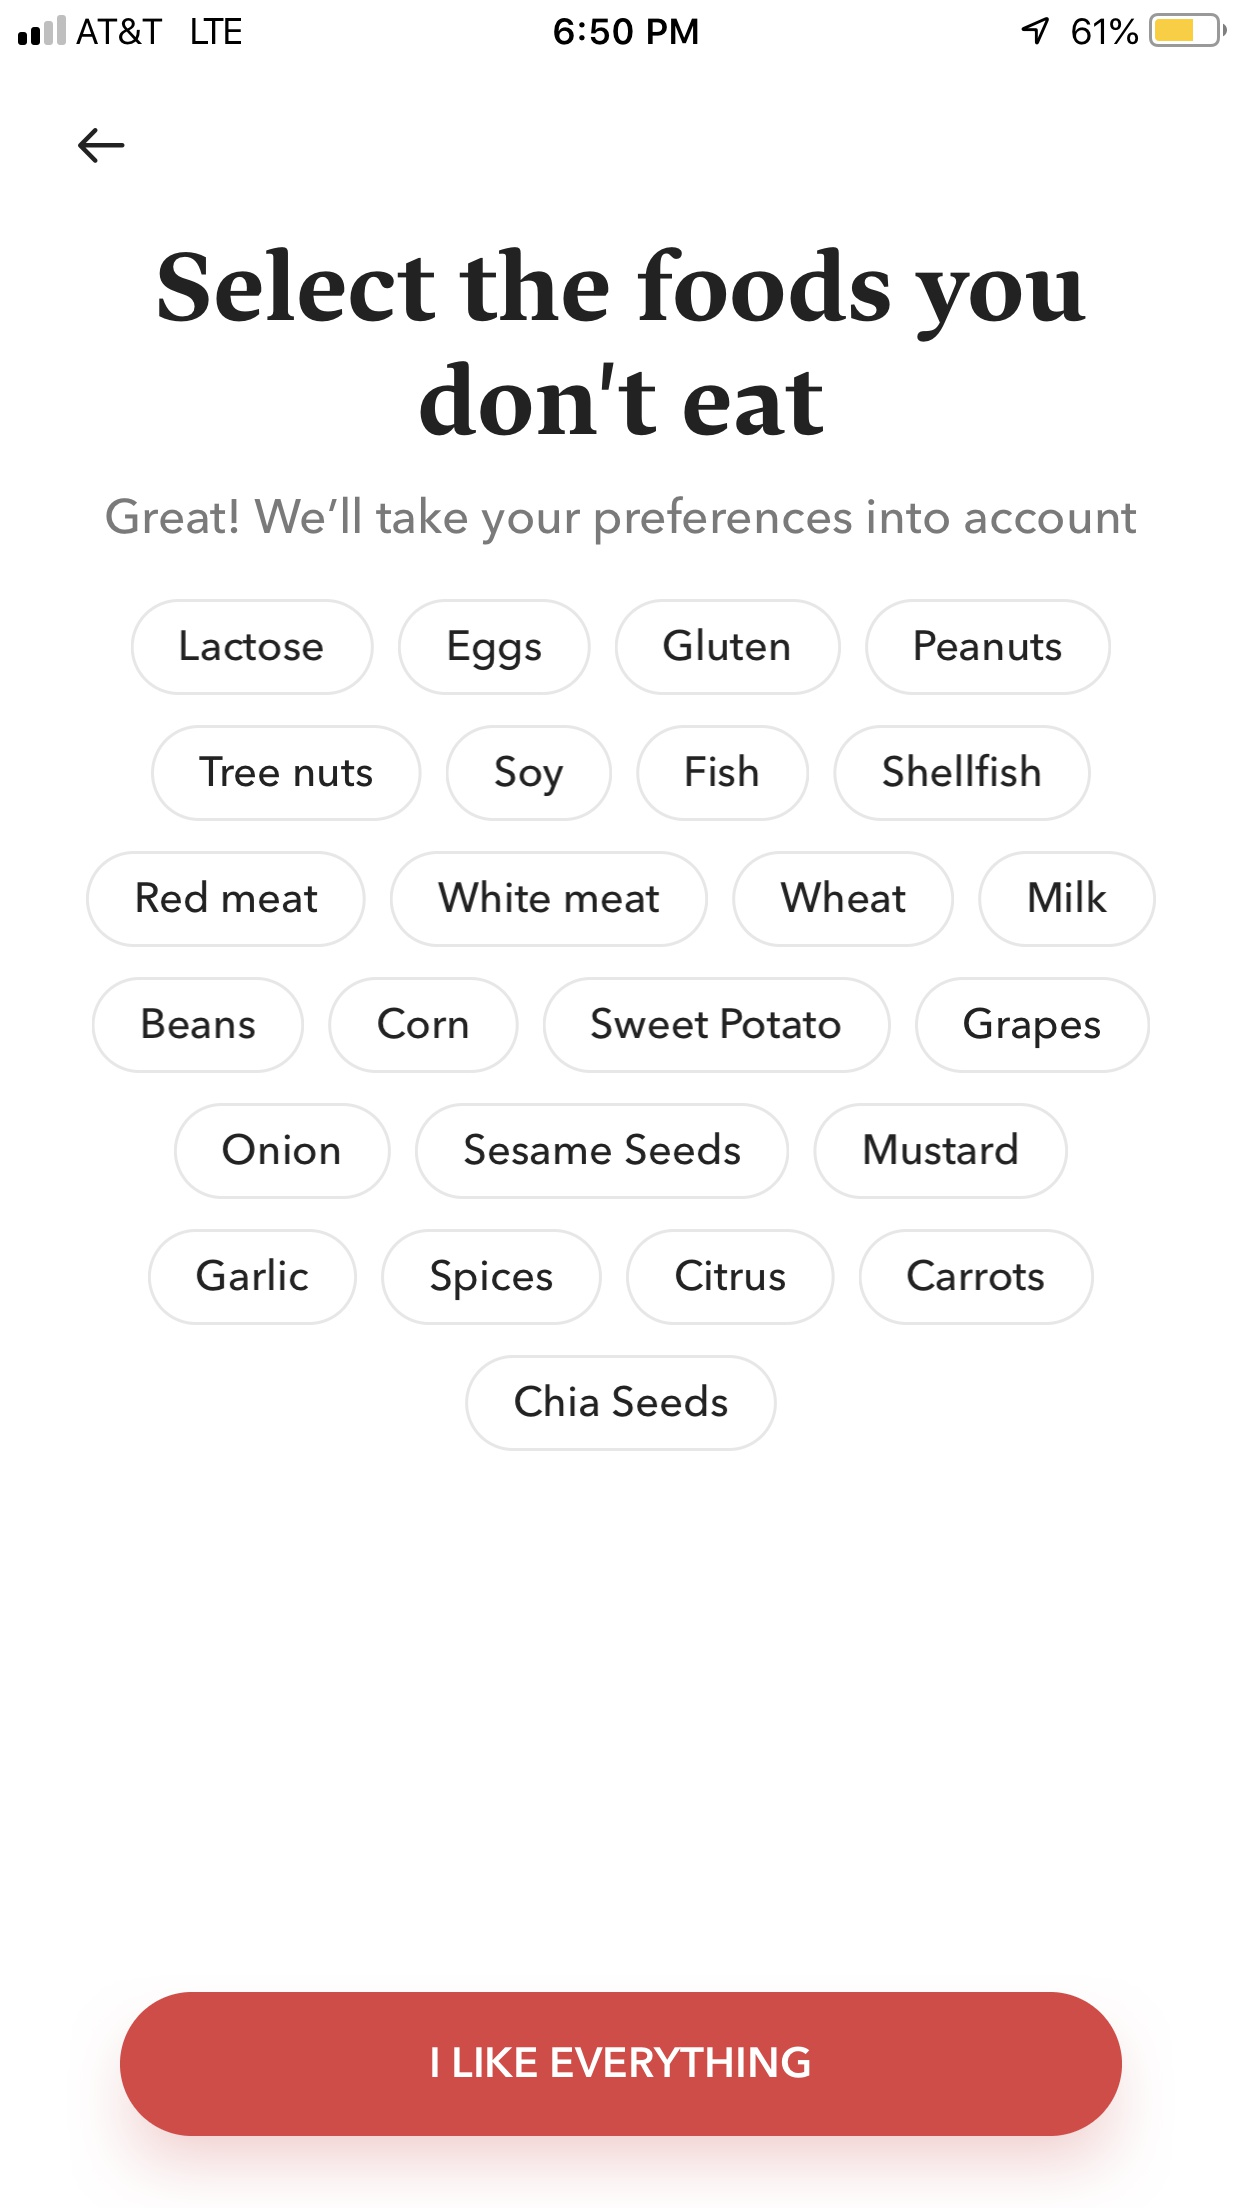Icon: (77, 127, 126, 165)
Text: (158, 247, 1087, 438), (108, 496, 1137, 547)
TextButton: (120, 1991, 1124, 2137), (414, 1102, 790, 1200), (541, 977, 892, 1075), (390, 851, 710, 948), (464, 1354, 778, 1451), (86, 851, 369, 948), (152, 725, 425, 822), (833, 723, 1092, 822), (813, 1102, 1069, 1200), (864, 599, 1112, 698), (130, 597, 376, 696), (858, 1228, 1095, 1325), (914, 977, 1151, 1074), (616, 599, 842, 698), (731, 851, 955, 948), (381, 1228, 604, 1325), (174, 1102, 393, 1200), (93, 977, 306, 1074), (149, 1228, 359, 1325), (626, 1228, 836, 1325), (397, 597, 593, 696), (328, 977, 520, 1074), (977, 851, 1157, 948), (635, 725, 811, 823), (444, 723, 613, 822)
UpperTaskBar: (2, 2, 1242, 49)
